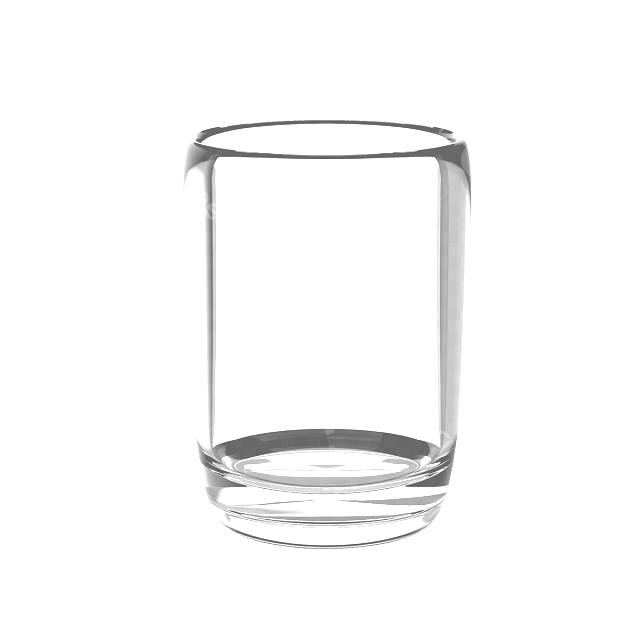Gelas: (153, 105, 501, 562)
